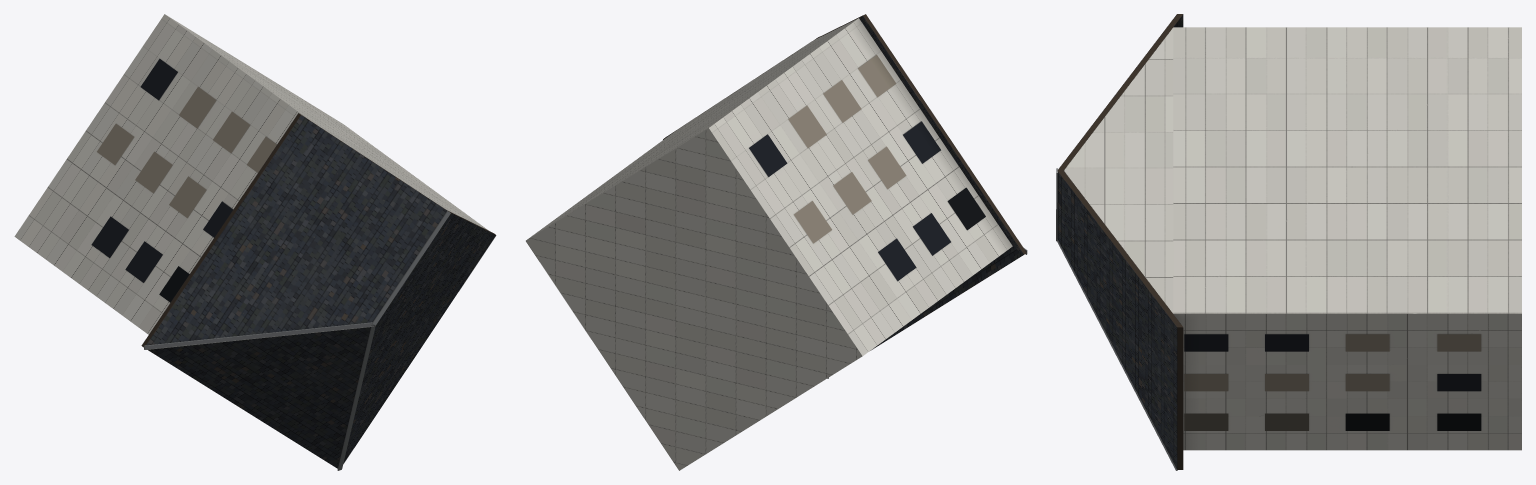
File: house_b0219.obj
3 views of the same model, side by side, from view 1: azimuth 30°, elevation 25°; view 2: azimuth 150°, elevation 25°; view 3: azimuth 270°, elevation 25° (orthographic). The views are drawn at different scales.
Visible parts, largest first — view 1: house_b0219; view 2: house_b0219; view 3: house_b0219.
Boxes of the visible parts, bbox=[...] form: house_b0219: bbox=[14, 14, 496, 470]; house_b0219: bbox=[526, 14, 1027, 470]; house_b0219: bbox=[1056, 14, 1521, 470].
Bounding box in the file's own units: 18.01 × 17.8 × 17.32.
Materials: 1 (1 with a texture image).
